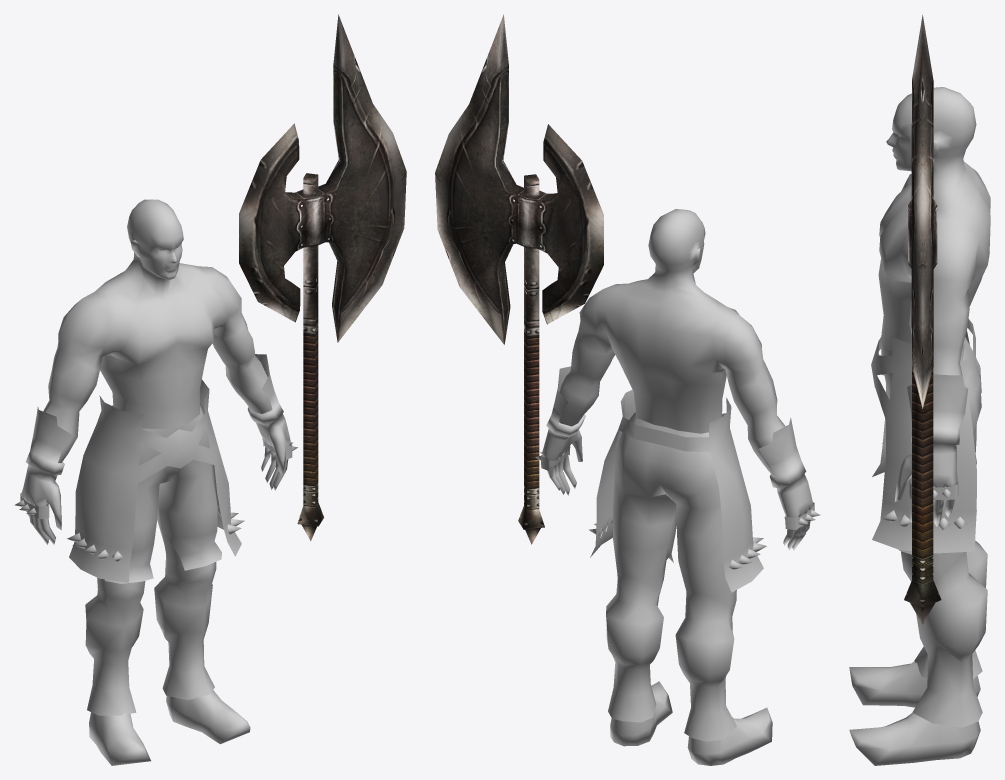
The model's file is WarriorKnight.fbx.
3 renders of one model, left to right at view 1: azimuth 30°, elevation 25°; view 2: azimuth 150°, elevation 25°; view 3: azimuth 270°, elevation 25°, orthographic. The views are drawn at different scales.
Visible parts, largest first — view 1: polySurface2, polySurface4, polySurface6, polySurface31, polySurface23, polySurface29, polySurface17, polySurface30; view 2: polySurface2, polySurface6, polySurface4, polySurface31, polySurface23, polySurface30, polySurface17, polySurface29; view 3: polySurface4, polySurface2, polySurface6, polySurface31, polySurface29, polySurface17, polySurface30, polySurface18.
Part boxes in pixels (x1,y1,x2,y2): polySurface2: (239,14,406,526); polySurface4: (43,199,272,462); polySurface6: (85,405,221,715); polySurface31: (67,379,244,582); polySurface23: (21,407,72,544); polySurface29: (166,690,250,744); polySurface17: (247,354,290,490); polySurface30: (89,712,150,765); polySurface2: (435,14,603,529); polySurface6: (606,412,736,741); polySurface4: (559,209,785,475); polySurface31: (588,389,766,592); polySurface23: (758,417,812,550); polySurface30: (687,707,772,765); polySurface17: (542,366,585,495); polySurface29: (610,681,672,746); polySurface4: (878,87,990,375); polySurface2: (904,15,941,607); polySurface6: (881,337,987,727); polySurface31: (871,319,976,553); polySurface29: (849,713,980,765); polySurface17: (894,374,968,526); polySurface30: (849,661,980,707); polySurface18: (909,479,958,499).
Size of the model in its own units: 3.63 by 6.14 by 0.9655.
